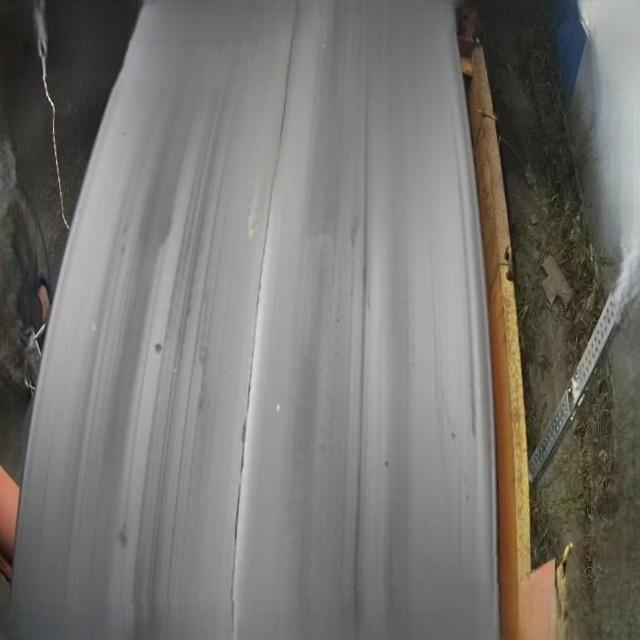Tear: (220, 339, 272, 582)
